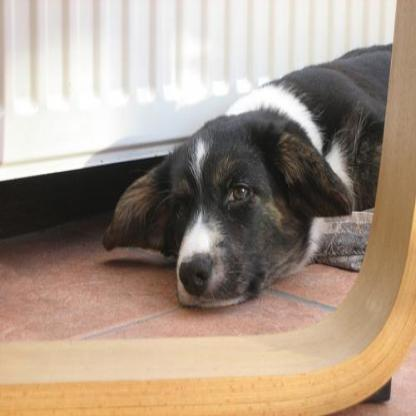Cardigan: (97, 38, 392, 310)
